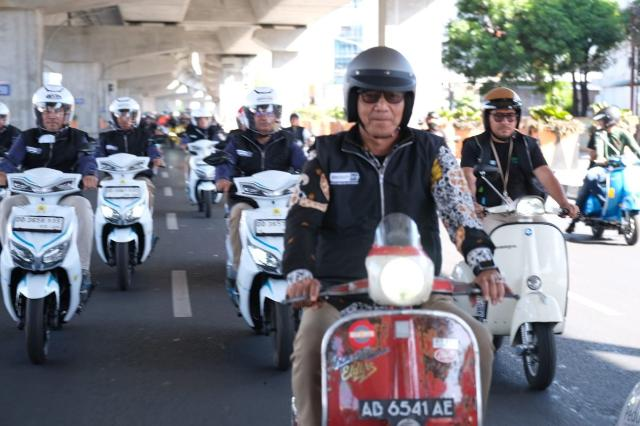helm: (341, 45, 421, 136), (232, 83, 288, 139), (477, 87, 527, 140), (32, 84, 79, 136), (107, 97, 143, 134), (590, 103, 628, 131), (191, 102, 215, 132), (2, 101, 19, 136)
motor: (279, 214, 521, 426), (450, 163, 585, 395), (2, 149, 103, 370), (213, 166, 312, 375), (92, 148, 168, 295), (571, 157, 640, 248), (185, 138, 231, 220)
